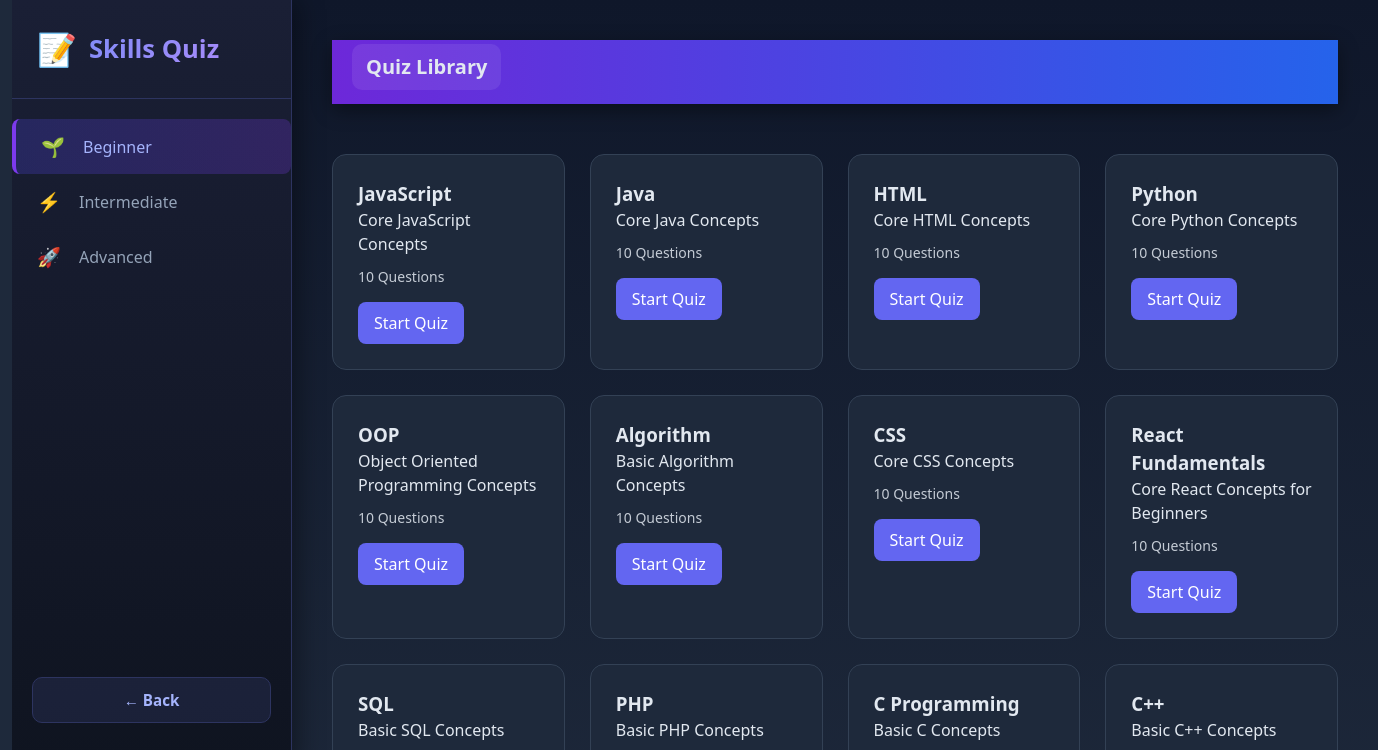
Test: Quiz › filters quizzes by difficulty tab
expect the text "Core JavaScript Concepts" is shown: met, box [358, 209, 470, 255]
expect the text "Advanced C++ Concepts" is not shown: met
Click the button "🚀 Advanced": (152, 256) [12, 229, 291, 284]
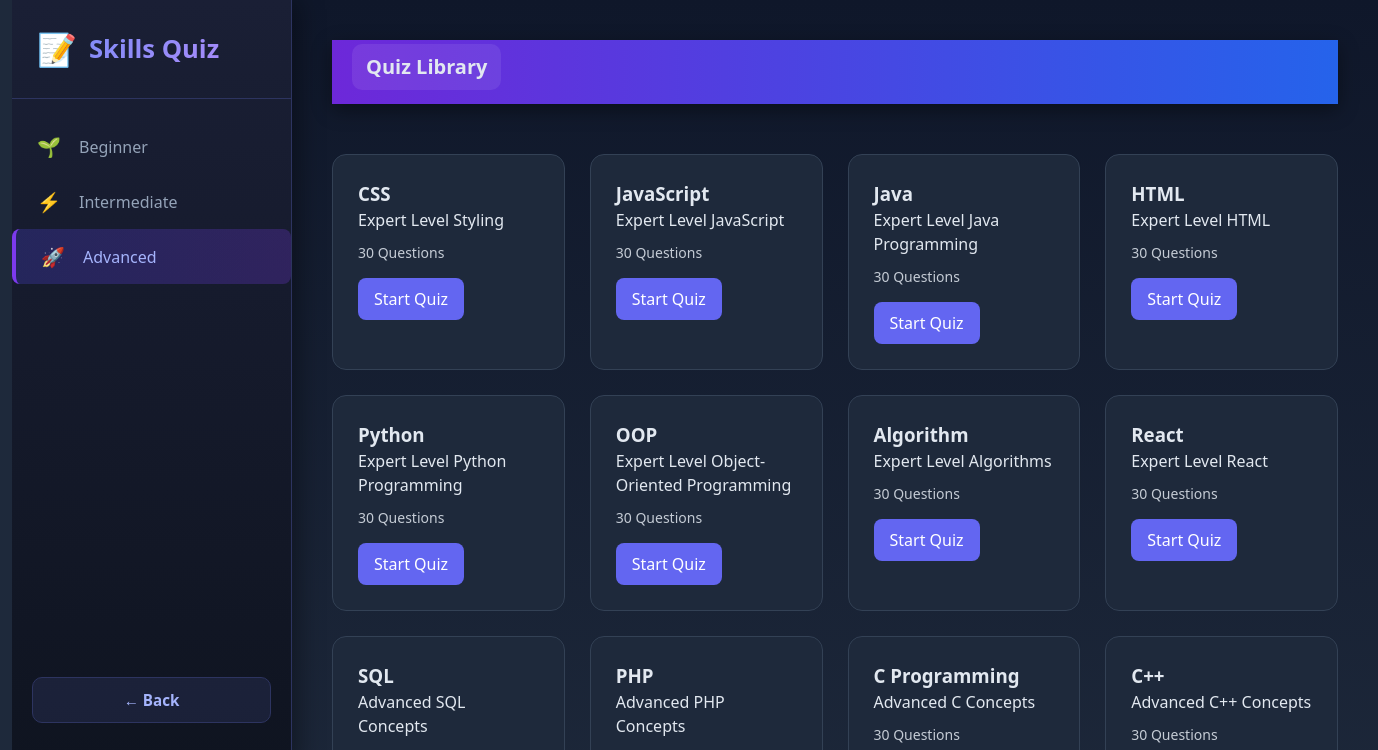
expect the text "Advanced C++ Concepts" is shown: met, box [1131, 690, 1312, 714]
expect the text "Core JavaScript Concepts" is gone: met
